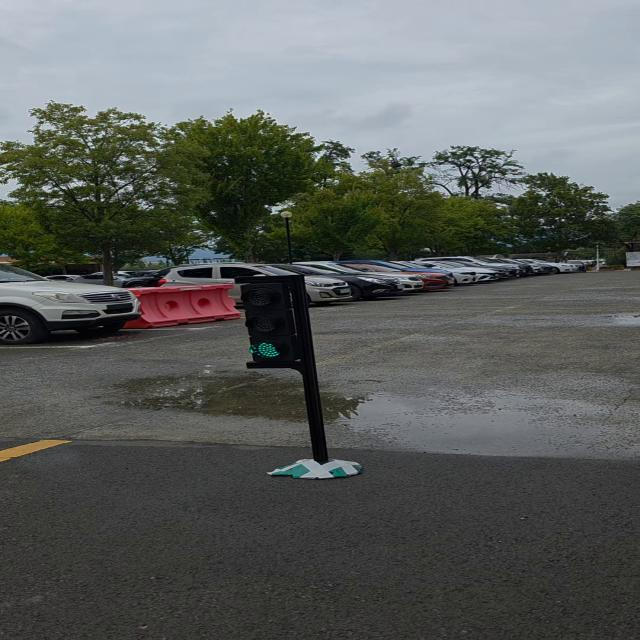green: (237, 277, 308, 365)
